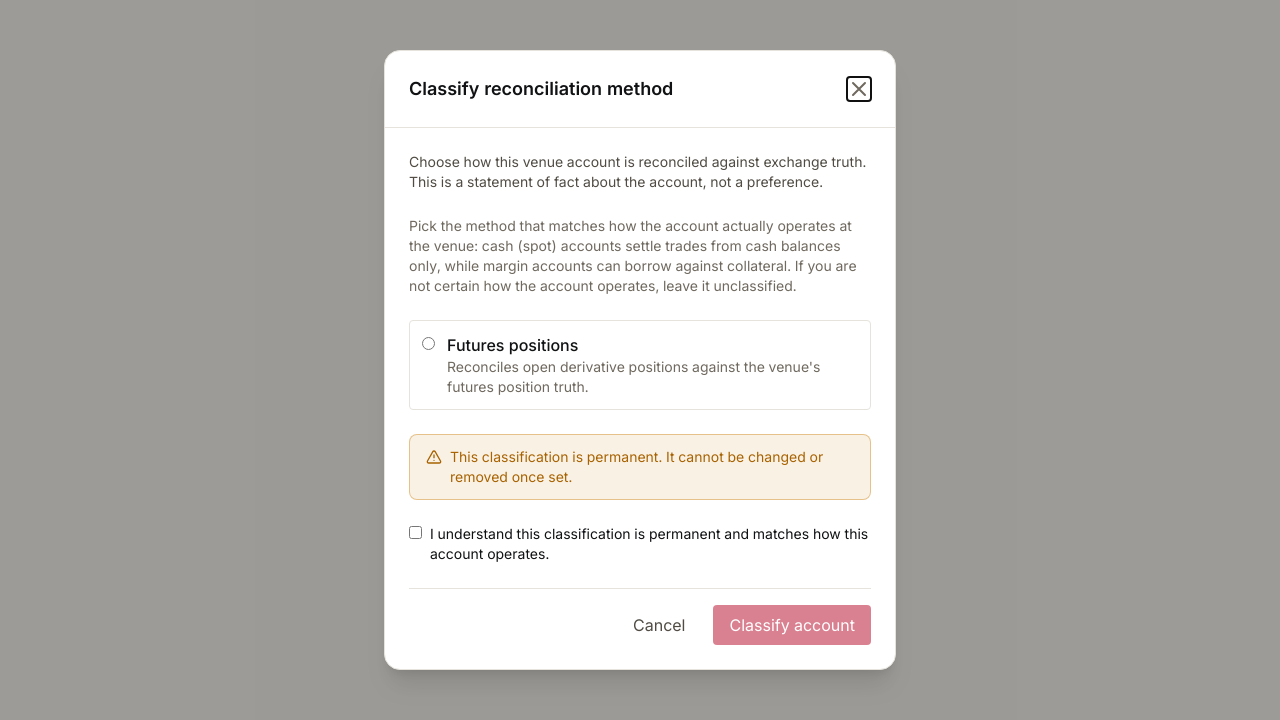
ClassifyReconciliationDialog › requires explicitly selecting the sole method for a single-method venue
This screenshot has width=1280, height=720.
Expected: the radio button with test id "classify-method-futures_position" is not checked, x1=422 y1=337 x2=435 y2=350
Click the checkbox with test id "classify-acknowledge" at (416,532), box x1=409 y1=526 x2=422 y2=539
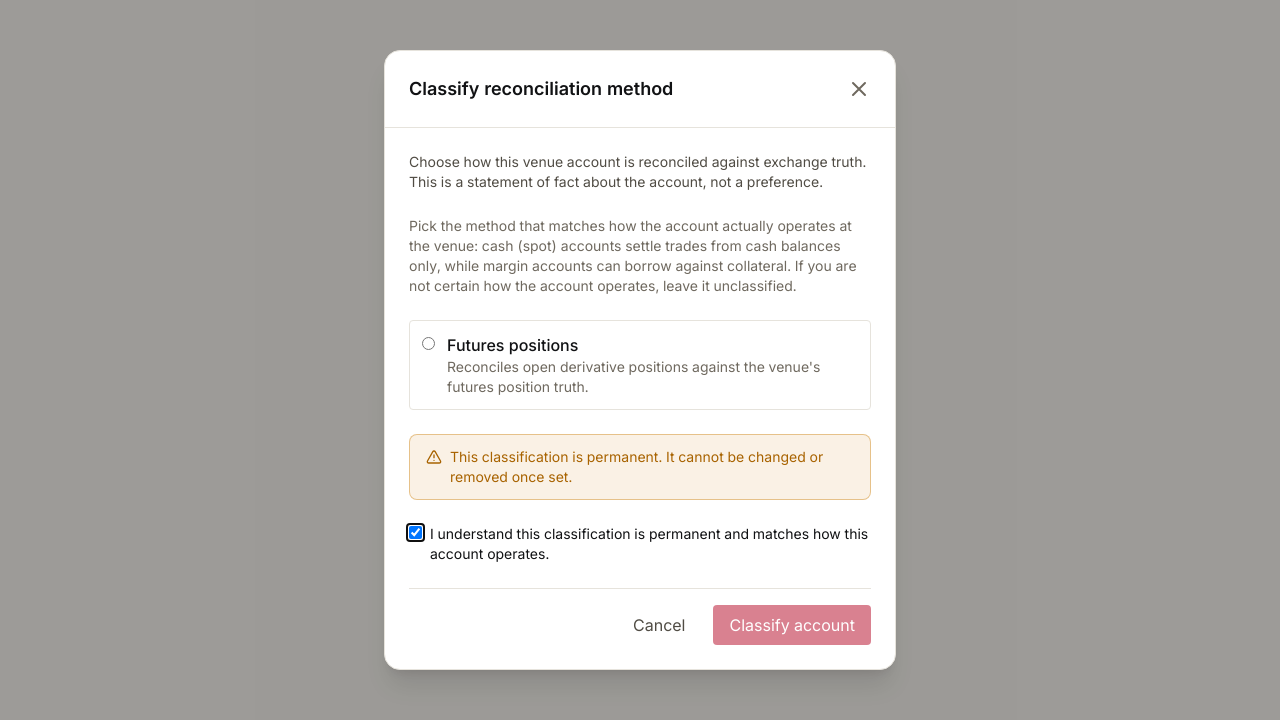
Expected: the button with test id "classify-confirm" is disabled, x1=714 y1=605 x2=871 y2=645
Click the radio button with test id "classify-method-futures_position" at (428,344), box x1=422 y1=337 x2=435 y2=350
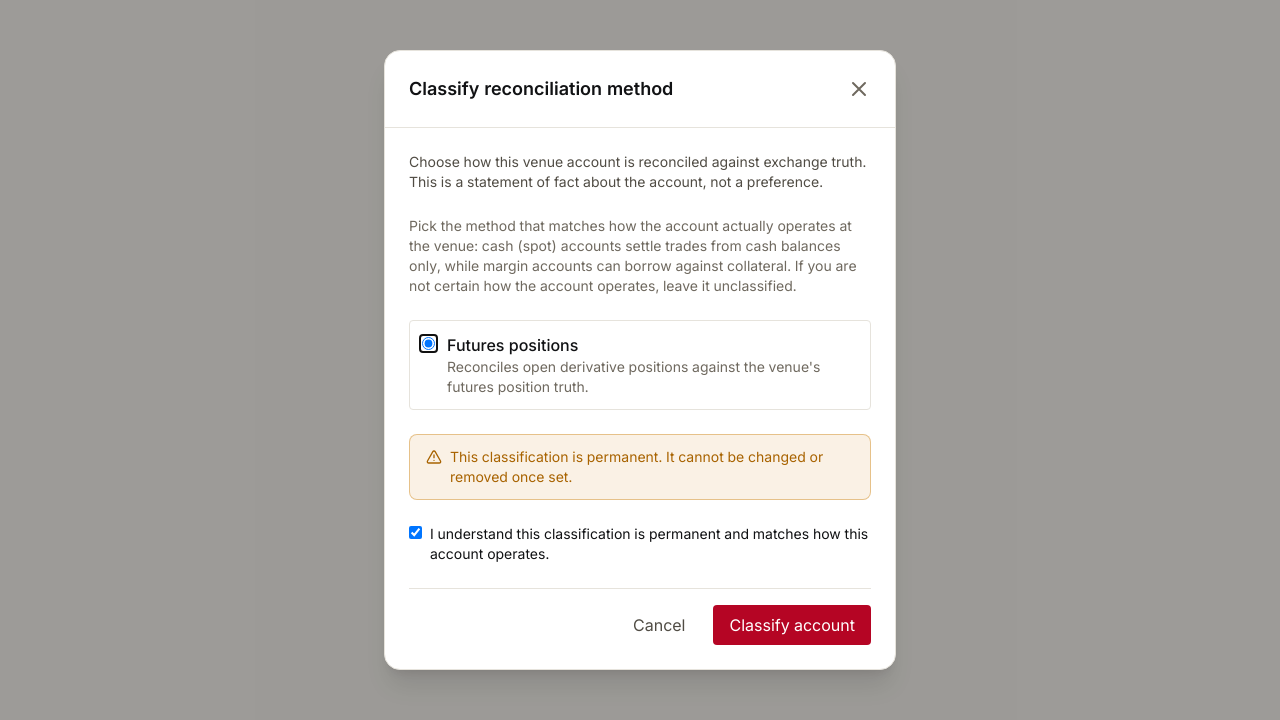
Result: the radio button with test id "classify-method-futures_position" is checked at x1=422 y1=337 x2=435 y2=350
Result: the button with test id "classify-confirm" is enabled at x1=714 y1=605 x2=871 y2=645
